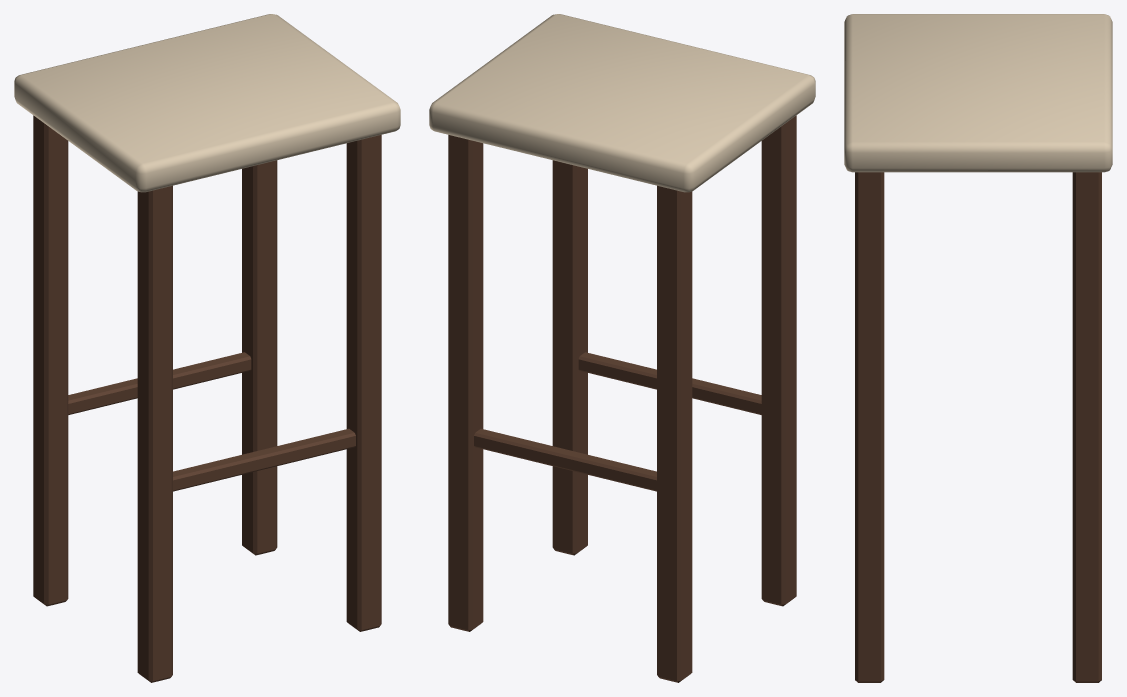
The model's file is i_stool_4.glb.
The picture shows the model from 3 angles, left to right: view 1: azimuth 30°, elevation 25°; view 2: azimuth 150°, elevation 25°; view 3: azimuth 270°, elevation 25°; orthographic projection. The views are drawn at different scales.
Visible parts, largest first — view 1: o.004, o, o.002, o.001, o.003, o.005, o.006; view 2: o.004, o.001, o.003, o, o.002, o.006, o.005; view 3: o.004, o.002, o.003.
Part boxes in pixels (x1,y1,x2,y2): o.004: (14, 14, 400, 192); o: (137, 185, 172, 682); o.002: (346, 135, 381, 631); o.001: (33, 115, 68, 606); o.003: (242, 160, 277, 555); o.005: (173, 428, 355, 491); o.006: (68, 352, 251, 414); o.004: (429, 14, 815, 192); o.001: (657, 185, 692, 682); o.003: (448, 135, 483, 631); o: (761, 115, 796, 606); o.002: (552, 160, 587, 555); o.006: (474, 428, 656, 491); o.005: (578, 352, 761, 414); o.004: (844, 14, 1112, 172); o.002: (855, 172, 884, 682); o.003: (1072, 172, 1101, 682).
Bounding box in the file's own units: 0.38 × 0.72 × 0.32.
